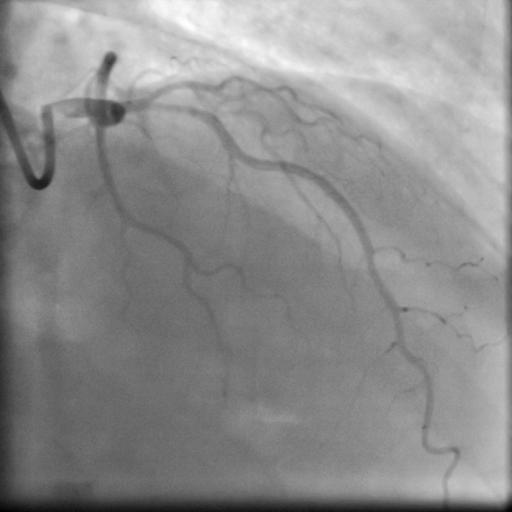Stenosis: (137, 96, 200, 120)
